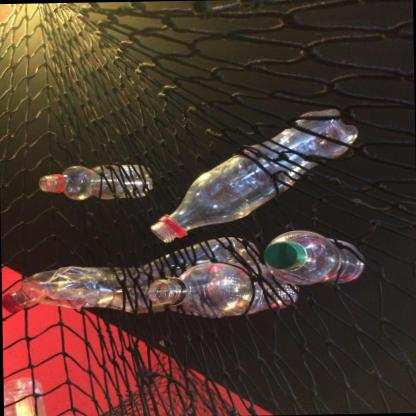Plastic: (150, 109, 357, 242), (7, 237, 261, 318), (147, 262, 299, 316), (264, 230, 364, 285), (39, 164, 153, 199), (3, 377, 46, 416), (264, 241, 303, 270)
